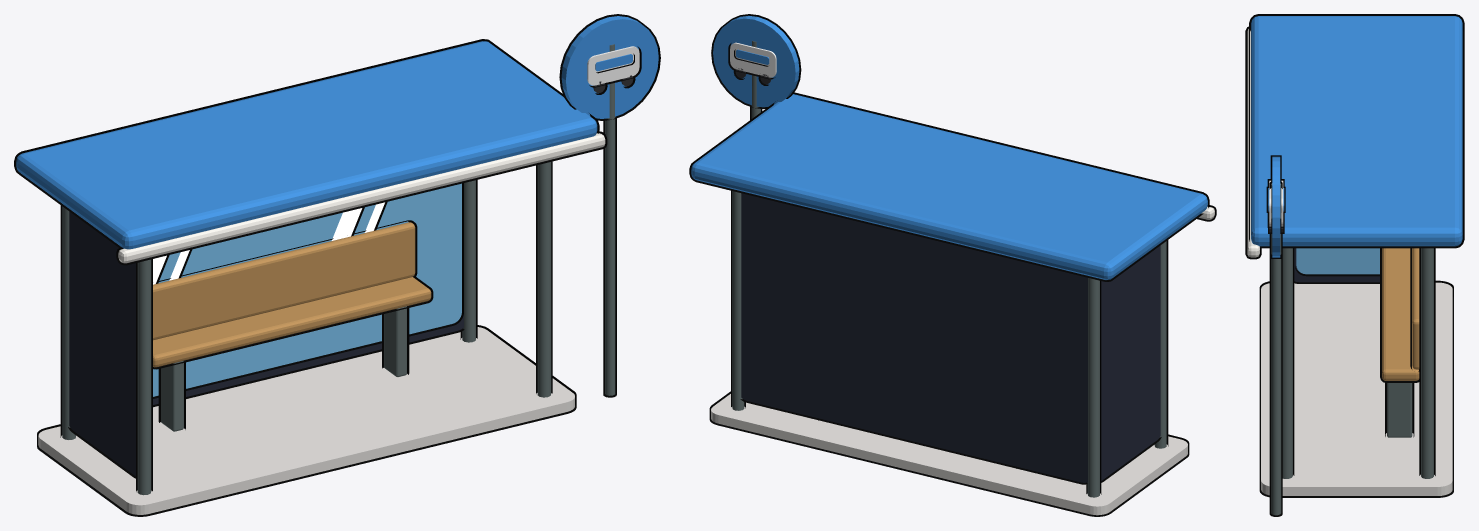
File: Bus_Stop.fbx
3 renders of one model, left to right at view 1: azimuth 30°, elevation 25°; view 2: azimuth 150°, elevation 25°; view 3: azimuth 270°, elevation 25°, orthographic. The views are drawn at different scales.
Visible parts, largest first — view 1: Bus_Stop; view 2: Bus_Stop; view 3: Bus_Stop.
Boxes of the visible parts, bbox=[...] form: Bus_Stop: bbox=[14, 14, 660, 516]; Bus_Stop: bbox=[689, 14, 1216, 516]; Bus_Stop: bbox=[1245, 14, 1464, 516].
Size of the model in its own units: 11.87 by 7.76 by 4.35.
